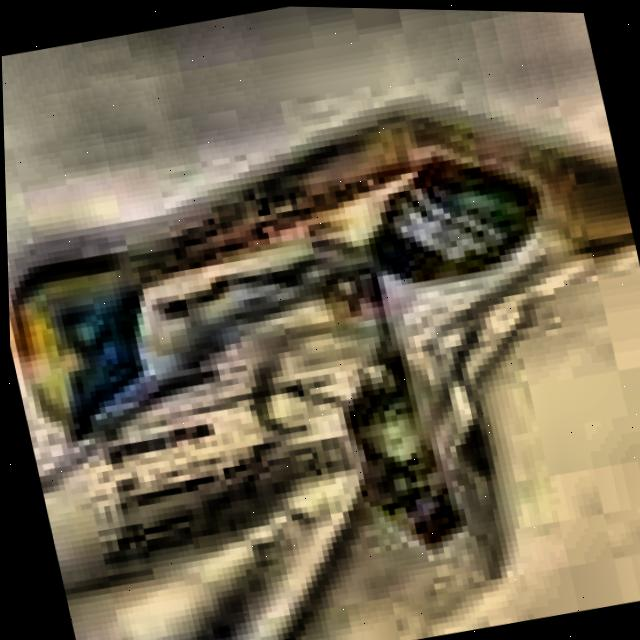paper: (6, 102, 635, 640)
